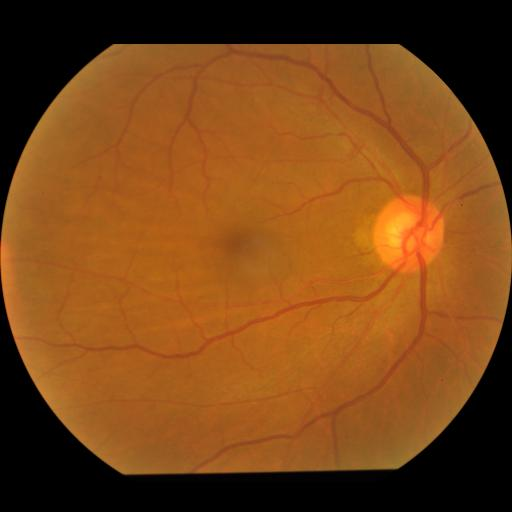Optic Cup: (387, 212, 428, 252)
Optic Disc: (373, 194, 444, 273)
